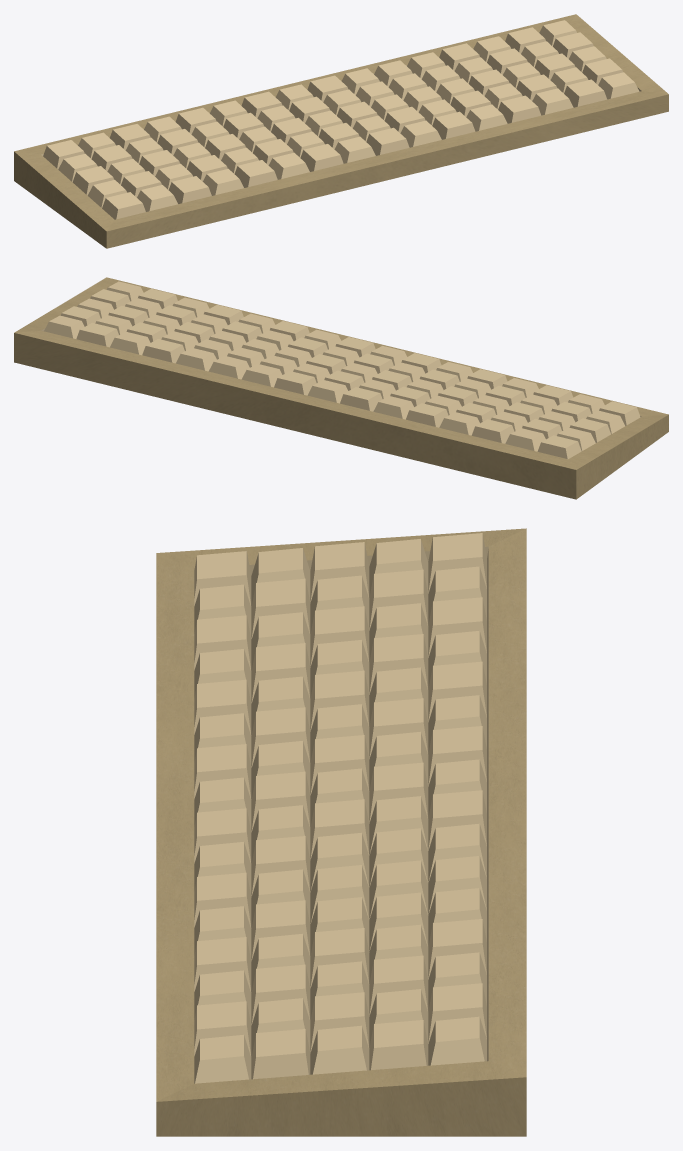
The model's file is Keyboard.fbx.
The picture shows the model from 3 angles, top to bottom: view 1: azimuth 30°, elevation 25°; view 2: azimuth 150°, elevation 25°; view 3: azimuth 270°, elevation 25°; orthographic projection. The views are drawn at different scales.
Parts seen in each view (by area): view 1: Keyboard; view 2: Keyboard; view 3: Keyboard.
Part boxes in pixels (box(x1,y1,x2,y2)): Keyboard: box(14, 14, 668, 248); Keyboard: box(14, 277, 668, 499); Keyboard: box(156, 528, 526, 1136).
Bounding box in the file's own units: 200 × 12.91 × 57.08.
